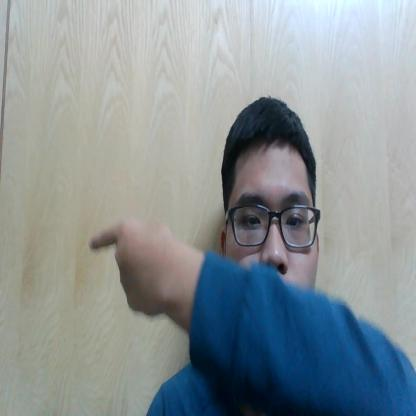right: (82, 204, 182, 337)
